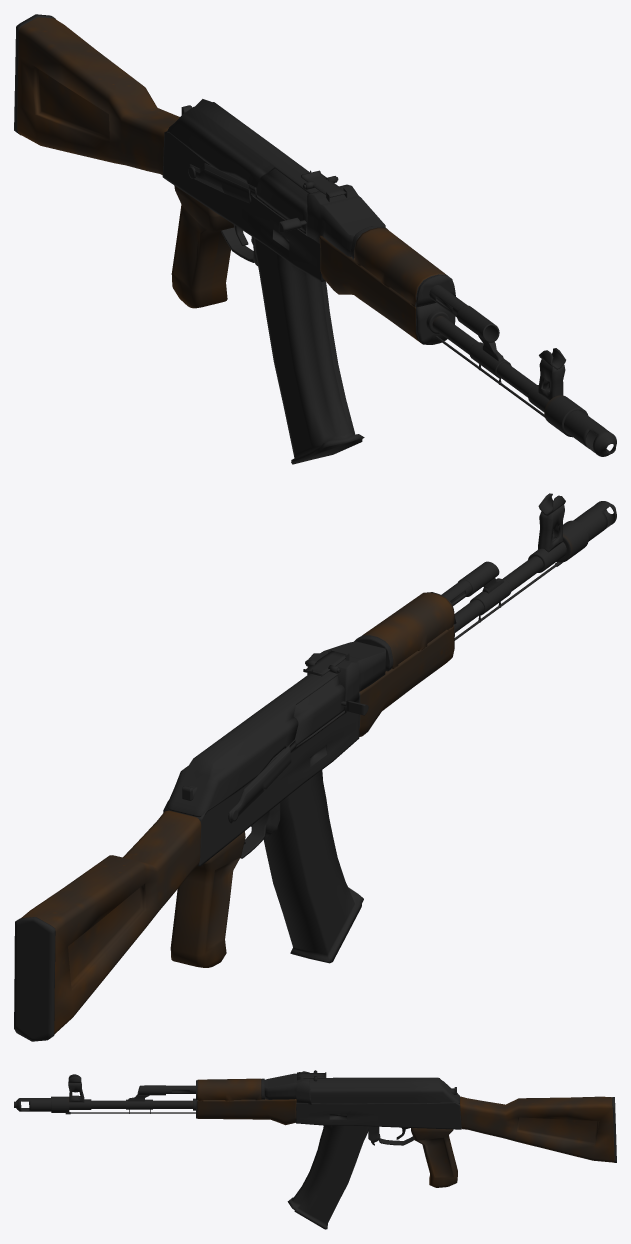
The model's file is gun.obj.
3 renders of one model, top to bottom at view 1: azimuth 30°, elevation 25°; view 2: azimuth 150°, elevation 25°; view 3: azimuth 270°, elevation 25°, orthographic. The views are drawn at different scales.
Parts seen in each view (by area): view 1: gun; view 2: gun; view 3: gun.
Part boxes in pixels (x1,y1,x2,y2): gun: (14, 14, 616, 464); gun: (14, 493, 616, 1041); gun: (14, 1070, 616, 1229).
Bounding box in the file's own units: 0.1256 × 0.5476 × 1.99.
1 material, 1 textured.
